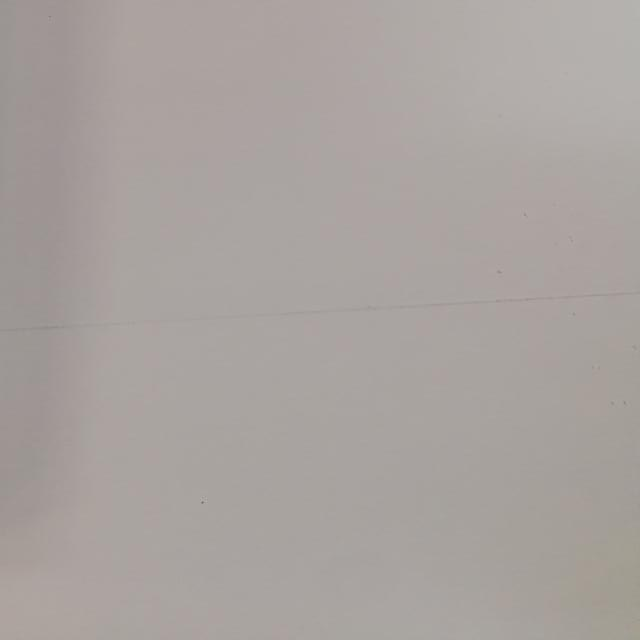fluorescent tube: (0, 0, 68, 634)
